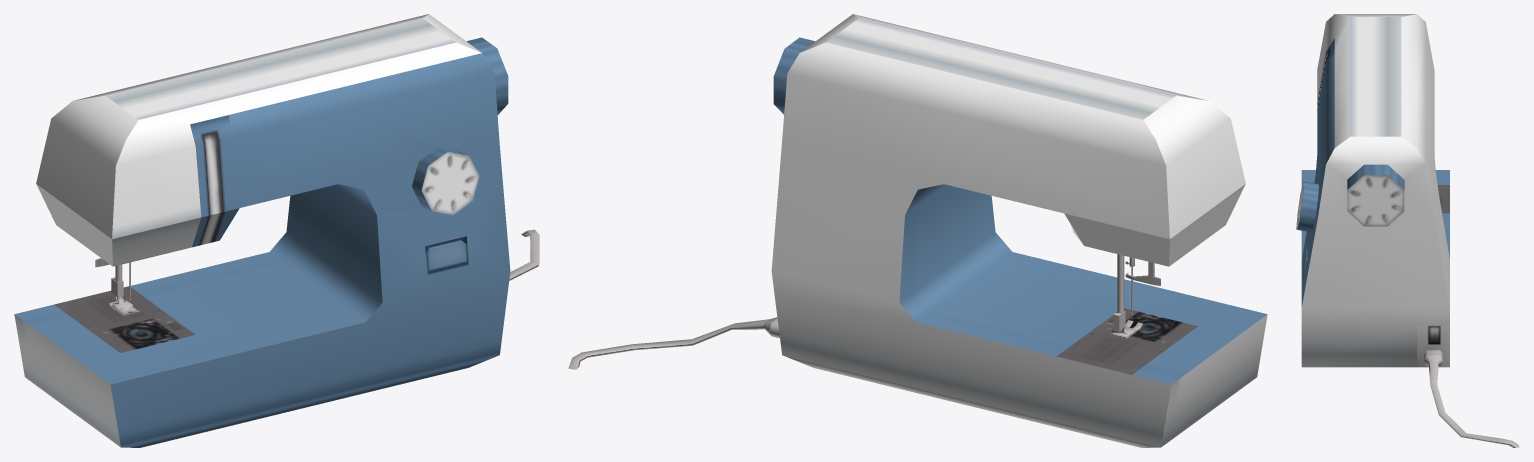
File: textile.glb
3 views of the same model, side by side, from view 1: azimuth 30°, elevation 25°; view 2: azimuth 150°, elevation 25°; view 3: azimuth 270°, elevation 25° (orthographic). The views are drawn at different scales.
Visible parts, largest first — view 1: SewingMachine1; view 2: SewingMachine1; view 3: SewingMachine1.
Boxes of the visible parts, x1,y1,x2,y2 form: SewingMachine1: (14, 14, 539, 447); SewingMachine1: (568, 14, 1267, 447); SewingMachine1: (1296, 14, 1519, 447).
Bounding box in the file's own units: 0.4901 × 0.2628 × 0.2192.
Materials: 1 (1 with a texture image).
